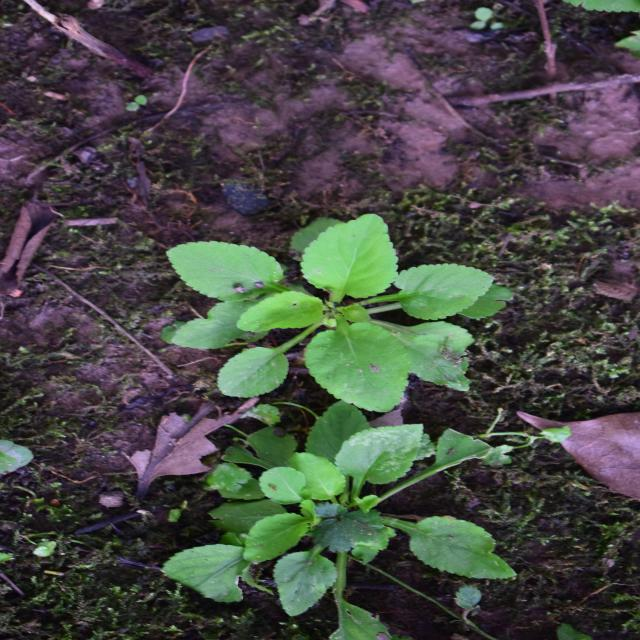Viola: (210, 145, 446, 483), (428, 144, 616, 473)
